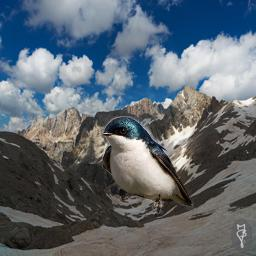Swallow: (102, 116, 194, 214)
